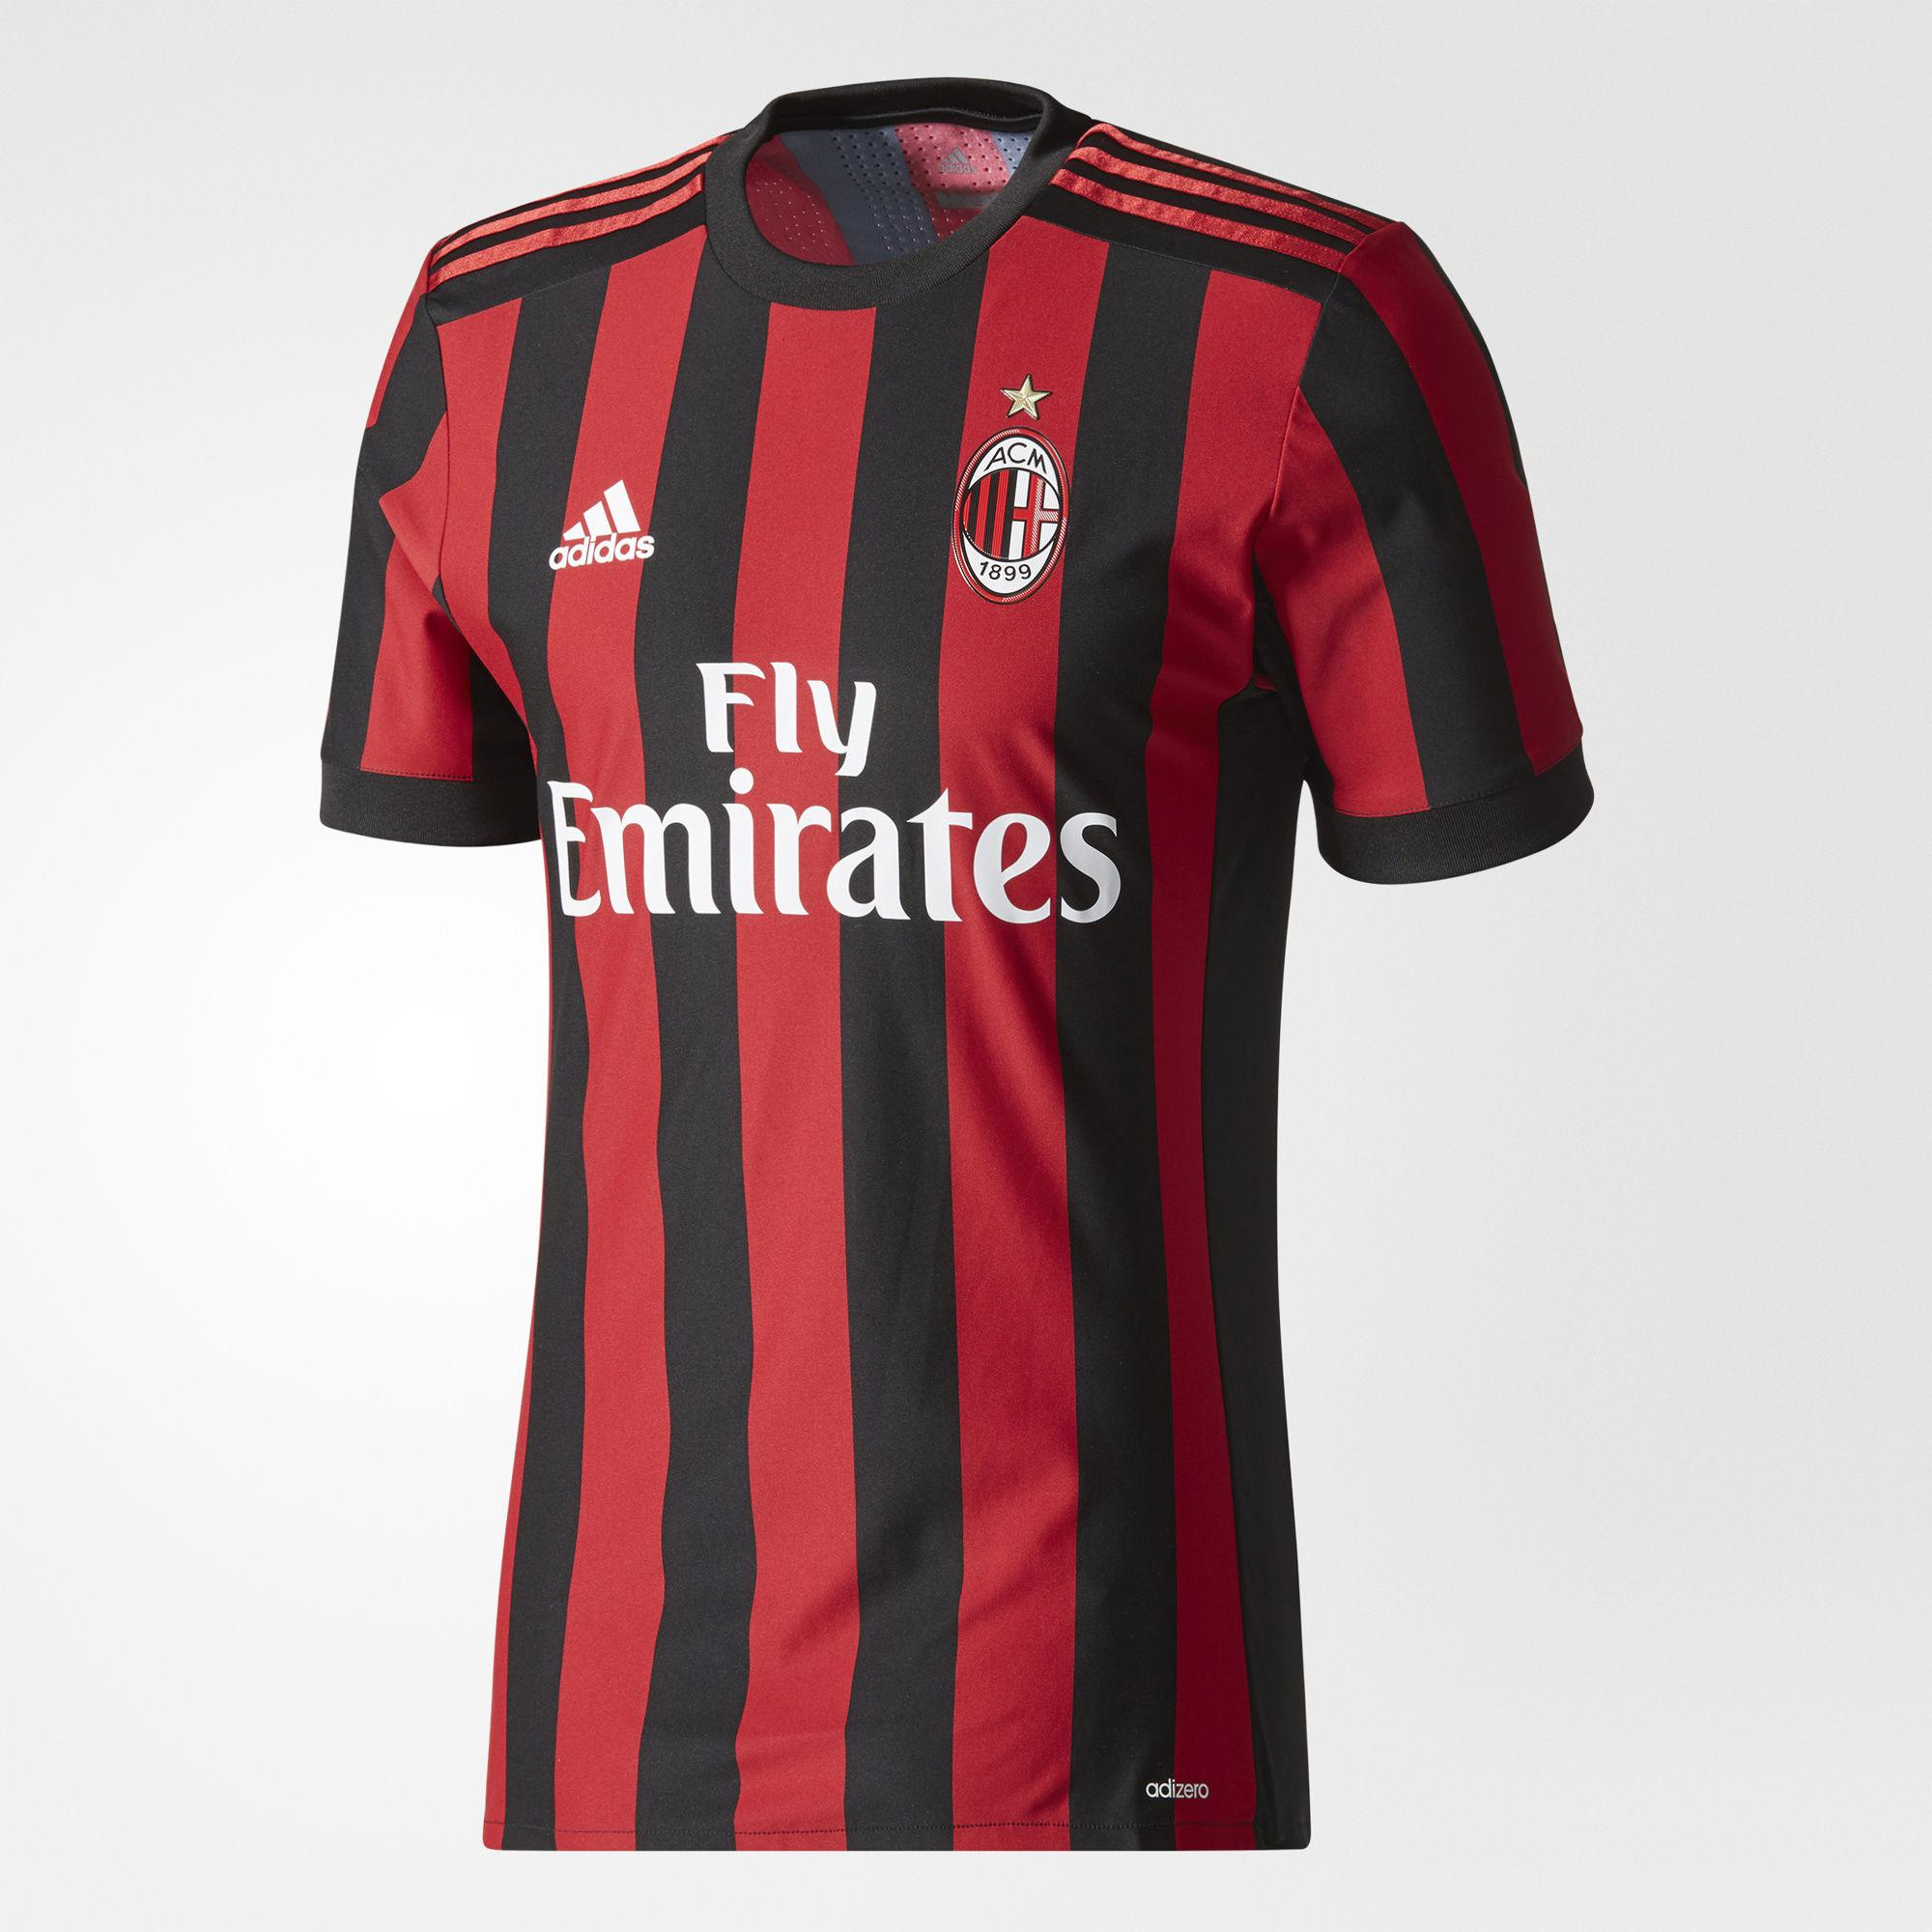teeshirt: (219, 73, 1688, 1923)
